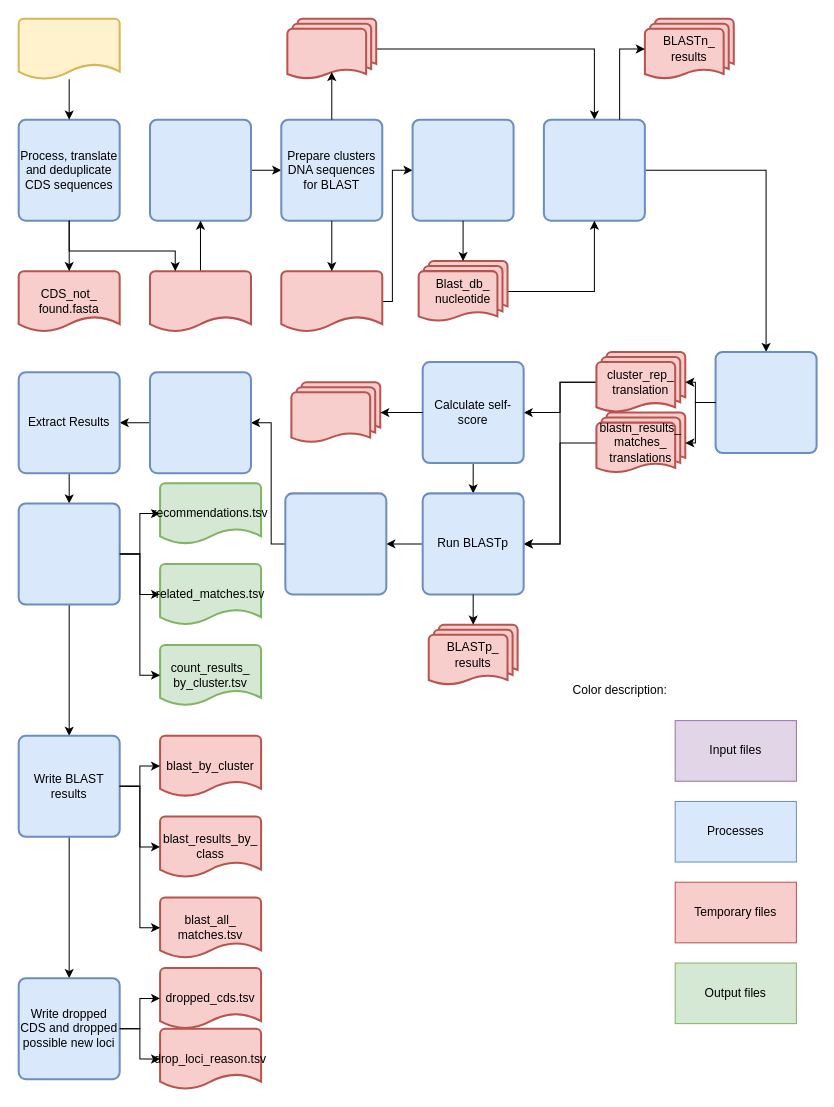
This 834x1107 diagram has some shape labels left out. The shapes that lost their labels are listed below. From the top down, each one's box as (x1, y1, x2, y2) in pixels, then its label:
(17, 17, 120, 80): unclassified_ sequences.fasta
(286, 17, 377, 80): cluster_ representatives _fastas_dna
(148, 118, 251, 221): Clustering by minimizers
(411, 118, 514, 221): Create BLASTn database
(542, 118, 645, 221): Run BLASTn
(148, 270, 251, 332): CDS_not_found_ translation.fasta
(280, 270, 383, 332): master.fasta
(290, 381, 381, 443): self_score_ folder
(714, 350, 817, 453): Based on BLASTn matches translate the clusters to run in BLASTp
(148, 371, 251, 474): Process Classes
(17, 502, 120, 605): Write recommendations summary results
(284, 492, 387, 595): Separate BLAST results into classes
